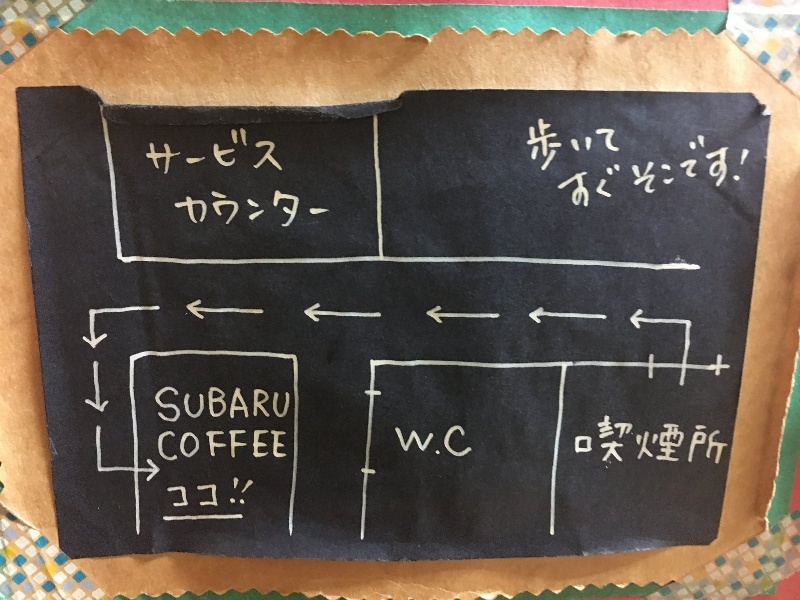text: (545, 127, 560, 213), (561, 127, 576, 213), (577, 127, 592, 213), (593, 127, 608, 213), (609, 127, 624, 213), (625, 127, 640, 213), (641, 127, 656, 213), (657, 127, 672, 213), (673, 127, 688, 213), (689, 127, 704, 213), (705, 127, 720, 213), (721, 127, 736, 213), (737, 127, 752, 213), (529, 119, 544, 176), (545, 119, 560, 176), (561, 119, 576, 176), (577, 119, 592, 176), (593, 119, 608, 176), (593, 413, 608, 465), (609, 413, 624, 465), (625, 413, 640, 465), (641, 413, 656, 465), (657, 413, 672, 465), (673, 413, 688, 465), (689, 413, 704, 465), (705, 413, 720, 465), (578, 413, 592, 465), (145, 129, 160, 175), (161, 129, 176, 175), (177, 129, 192, 175), (193, 129, 208, 175), (209, 129, 224, 175), (225, 129, 240, 175), (241, 129, 256, 175), (257, 129, 272, 175), (609, 119, 621, 176), (273, 426, 289, 464), (721, 413, 732, 465), (161, 385, 176, 423), (177, 385, 192, 423), (193, 385, 208, 423), (209, 385, 224, 423), (225, 385, 240, 423), (241, 385, 256, 423), (257, 385, 272, 423), (273, 385, 288, 423), (161, 426, 176, 464), (177, 426, 192, 464), (193, 426, 208, 464), (209, 426, 224, 464), (225, 426, 240, 464), (241, 426, 256, 464), (257, 426, 272, 464), (177, 191, 192, 229), (193, 191, 208, 229), (209, 191, 224, 229), (225, 191, 240, 229), (241, 191, 256, 229), (257, 191, 272, 229), (273, 191, 288, 229), (289, 191, 304, 229), (305, 191, 320, 229), (401, 426, 416, 462), (417, 426, 432, 462), (433, 426, 448, 462), (449, 426, 464, 462), (177, 477, 192, 512), (193, 477, 208, 512), (209, 477, 224, 512), (225, 477, 240, 512), (241, 477, 256, 512), (273, 129, 284, 175), (321, 191, 331, 229), (465, 426, 473, 462), (168, 477, 176, 512), (153, 385, 160, 423), (393, 426, 400, 462), (289, 385, 295, 423), (525, 119, 528, 176), (156, 426, 160, 464), (753, 127, 754, 213), (174, 191, 176, 229)
